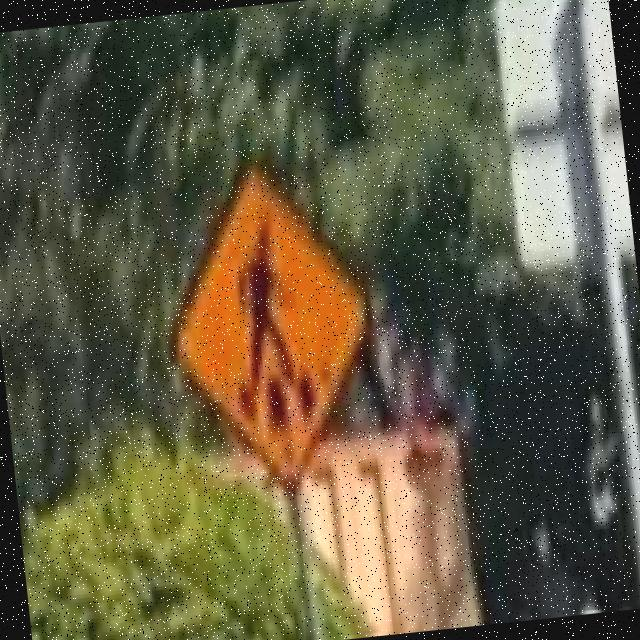Przejscie dla pieszych: (160, 155, 380, 481)
